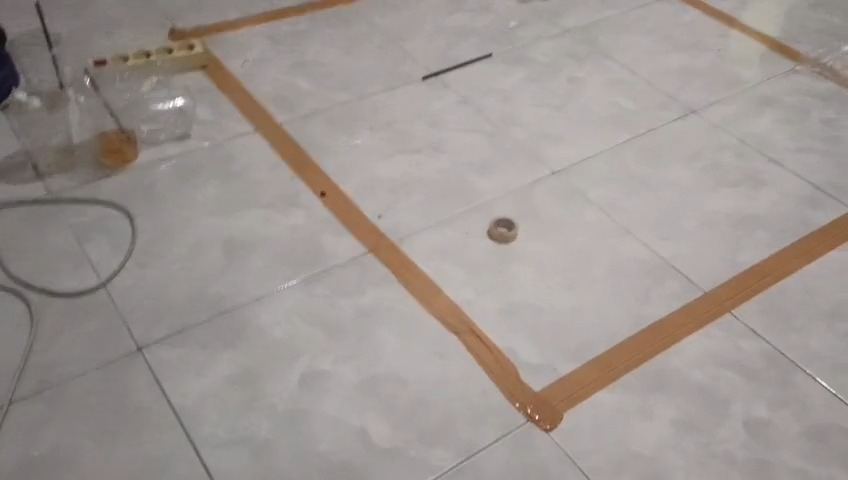floor marking: (205, 50, 847, 431), (681, 0, 847, 88), (169, 0, 353, 40)
